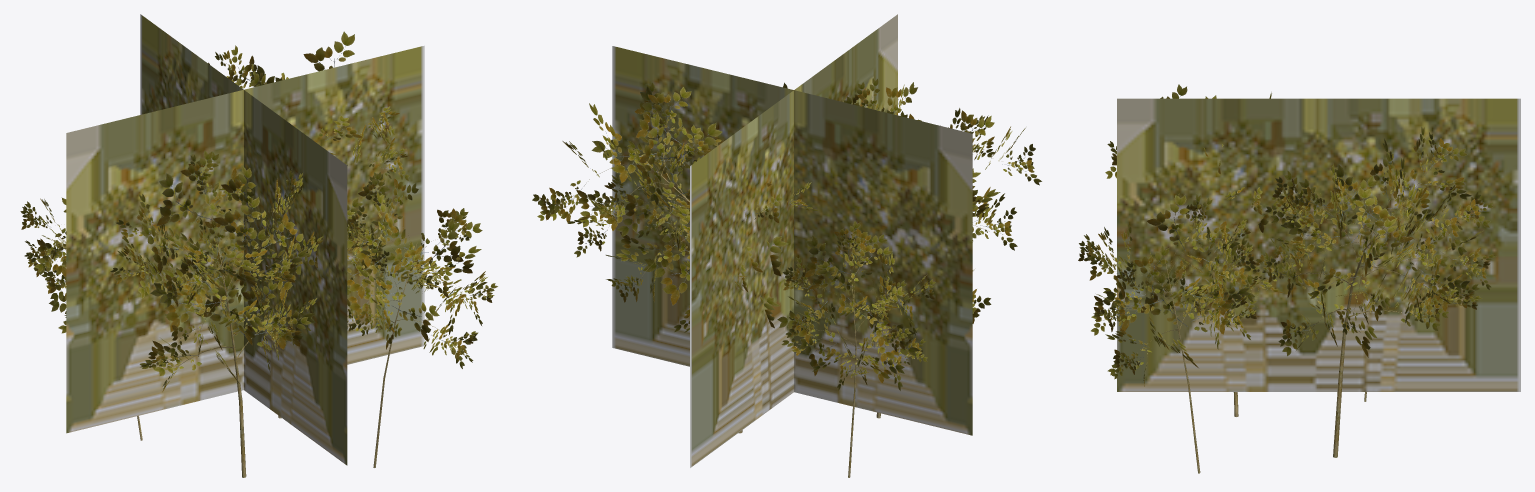
File: Shrub1-5B.fbx
3 views of the same model, side by side, from view 1: azimuth 30°, elevation 25°; view 2: azimuth 150°, elevation 25°; view 3: azimuth 270°, elevation 25° (orthographic). The views are drawn at different scales.
Parts seen in each view (by area): view 1: Billboard-Shrub1-5B, Shrub1-5B_LOD0; view 2: Billboard-Shrub1-5B, Shrub1-5B_LOD0; view 3: Billboard-Shrub1-5B, Shrub1-5B_LOD0.
Boxes of the visible parts, <box> form: Billboard-Shrub1-5B: <box>66,14,424,465</box>; Shrub1-5B_LOD0: <box>20,31,497,477</box>; Billboard-Shrub1-5B: <box>612,14,972,467</box>; Shrub1-5B_LOD0: <box>532,78,1041,477</box>; Billboard-Shrub1-5B: <box>1117,98,1520,391</box>; Shrub1-5B_LOD0: <box>1078,84,1496,473</box>.
Size of what is drawn, in the model's own units: 477 by 419 by 500.
